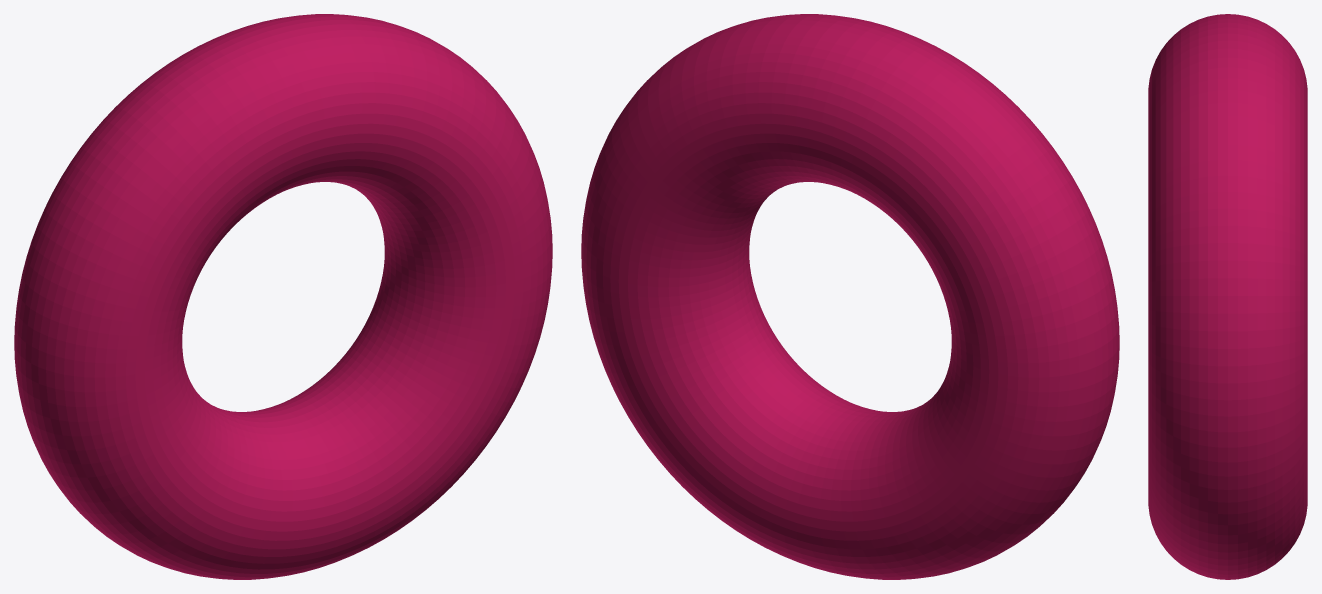
The picture shows the model from 3 angles, left to right: view 1: azimuth 30°, elevation 25°; view 2: azimuth 150°, elevation 25°; view 3: azimuth 270°, elevation 25°; orthographic projection. The views are drawn at different scales.
Parts seen in each view (by area): view 1: world; view 2: world; view 3: world.
Boxes of the visible parts, x1,y1,x2,y2 form: world: (14,14,552,579); world: (581,14,1119,579); world: (1148,14,1307,579).
Bounding box in the file's own units: 26 × 26 × 7.32.
